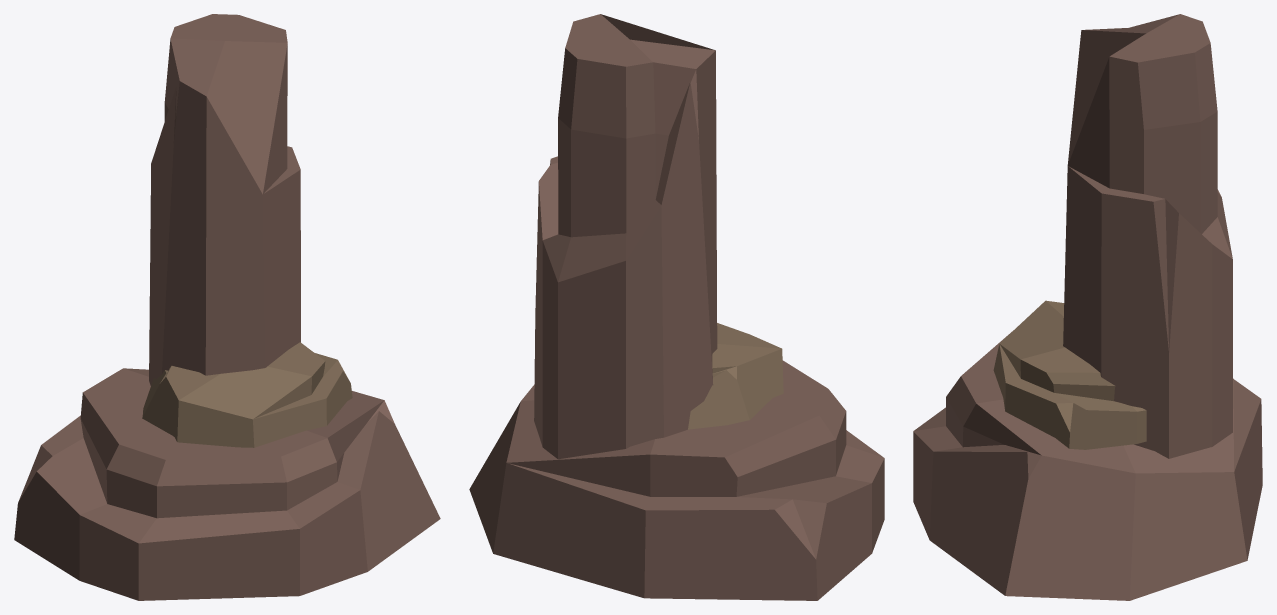
Rendered from stone_1.fbx.
3 views of the same model, side by side, from view 1: azimuth 30°, elevation 25°; view 2: azimuth 150°, elevation 25°; view 3: azimuth 270°, elevation 25° (orthographic). The views are drawn at different scales.
Parts seen in each view (by area): view 1: stone03.002; view 2: stone03.002; view 3: stone03.002.
Part boxes in pixels (box(x1,y1,x2,y2)): stone03.002: box(14, 14, 440, 600); stone03.002: box(469, 14, 884, 600); stone03.002: box(913, 14, 1262, 600).
Size of the model in its own units: 3267 by 4325 by 2690.
